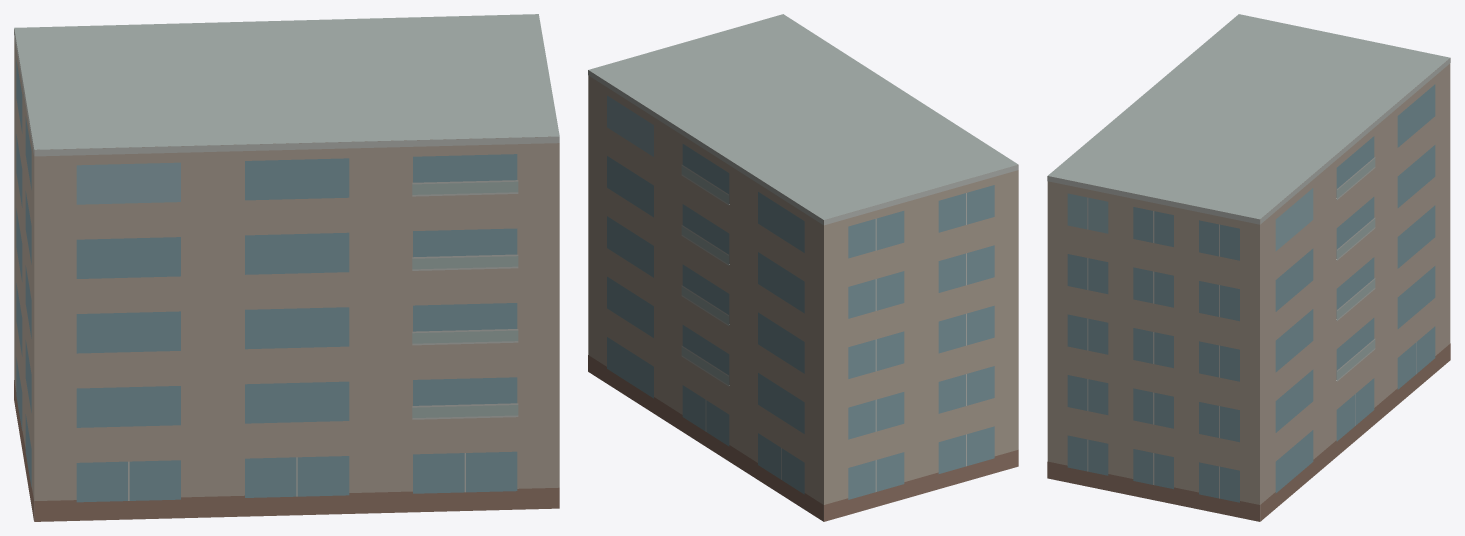
The model's file is survey-upis-32891803.glb.
The picture shows the model from 3 angles, left to right: view 1: azimuth 30°, elevation 25°; view 2: azimuth 150°, elevation 25°; view 3: azimuth 270°, elevation 25°; orthographic projection. The views are drawn at different scales.
Parts seen in each view (by area): view 1: survey-upis-32891803.tmp; view 2: survey-upis-32891803.tmp; view 3: survey-upis-32891803.tmp.
Boxes of the visible parts, bbox=[...] form: survey-upis-32891803.tmp: bbox=[14, 14, 559, 521]; survey-upis-32891803.tmp: bbox=[588, 14, 1018, 521]; survey-upis-32891803.tmp: bbox=[1047, 14, 1450, 521].
Size of the model in its own units: 20.03 by 13.75 by 16.61.
